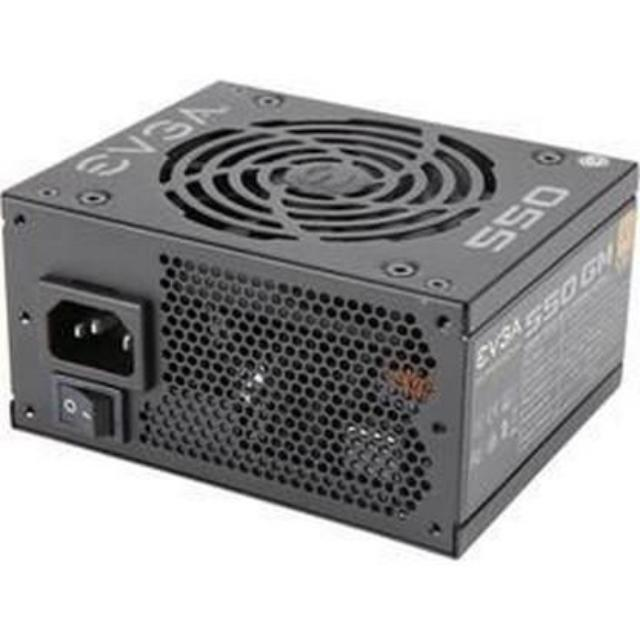PSU: (0, 41, 640, 558)
